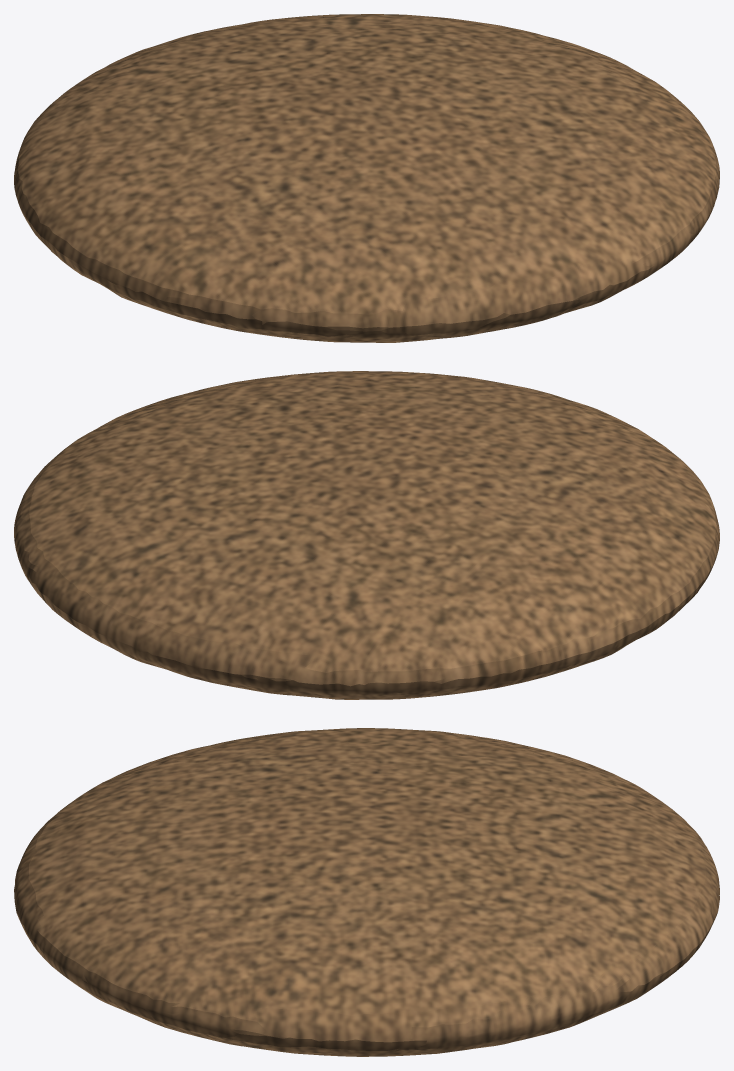
Rendered from tex_mesh.glb.
3 views of the same model, one above another, from view 1: azimuth 30°, elevation 25°; view 2: azimuth 150°, elevation 25°; view 3: azimuth 270°, elevation 25° (orthographic).
Visible parts, largest first — view 1: world; view 2: world; view 3: world.
Part boxes in pixels (x1,y1,x2,y2): world: [14, 14, 719, 342]; world: [14, 371, 719, 699]; world: [14, 728, 719, 1056].
Bounding box in the file's own units: 0.4 × 0.0885 × 0.4.
1 material, 1 textured.
